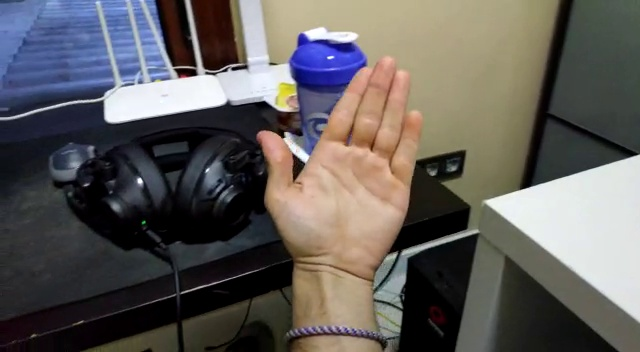Palm: (257, 48, 424, 280)
